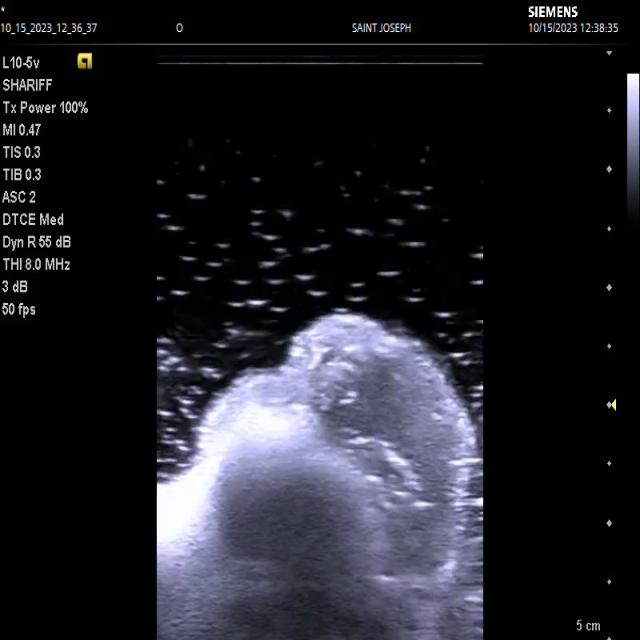tissue: (158, 314, 482, 640)
